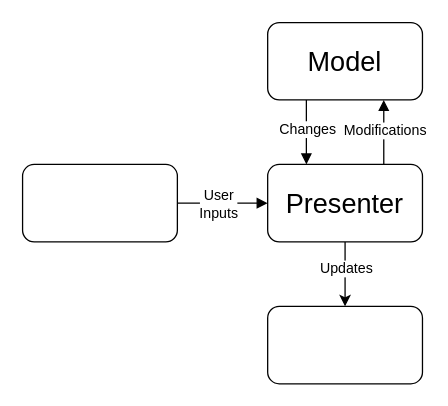
The diagram is 448 pixels wide and 406 high, and some of its shapes have lost their labels. The shapes that lost their labels are listed below. From the top down, each one's centre as x and y in pixels, then its label:
At (x=99, y=202): "Router".
At (x=344, y=344): "View".
